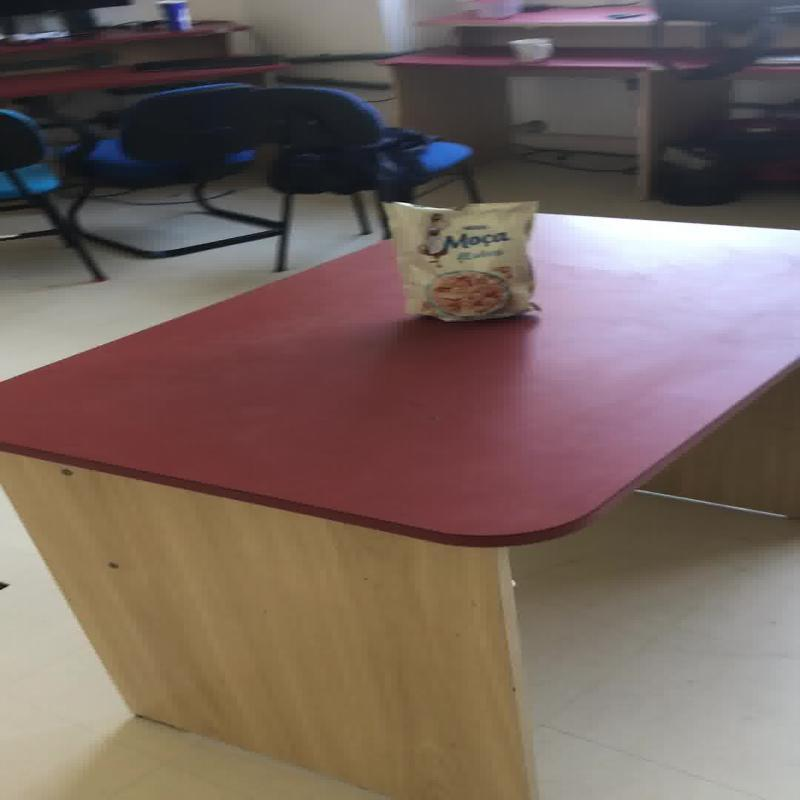corn flakes: (378, 199, 539, 321), (429, 268, 509, 316)
